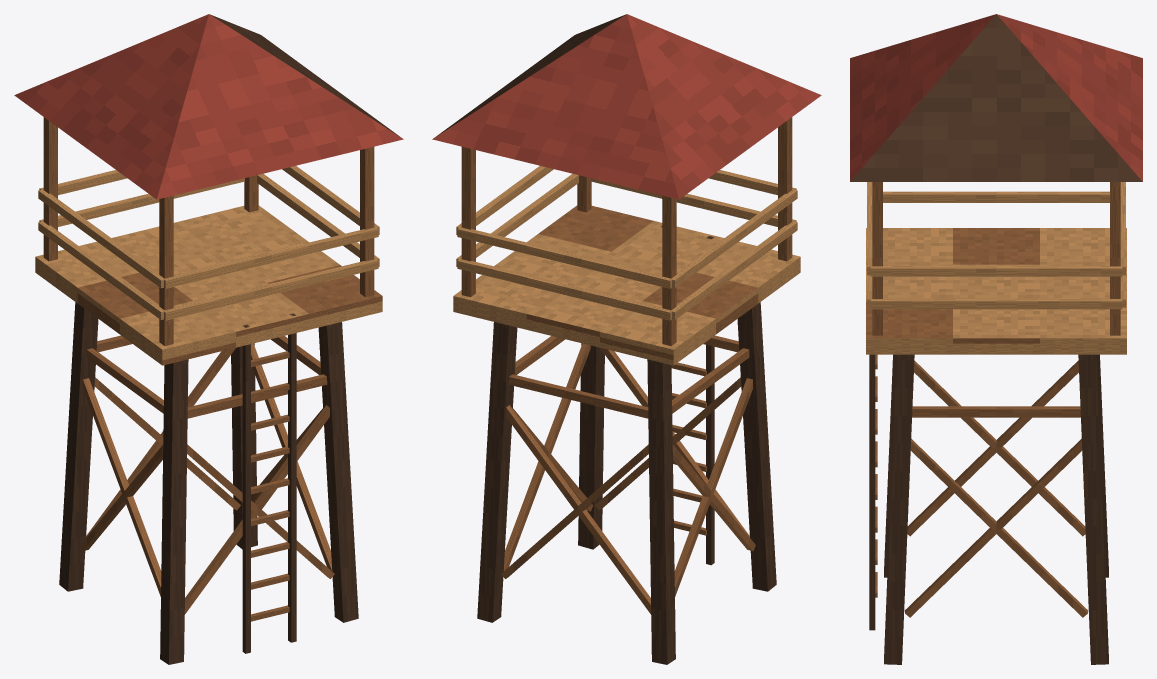
Rendered from watchtower.glb.
3 views of the same model, side by side, from view 1: azimuth 30°, elevation 25°; view 2: azimuth 150°, elevation 25°; view 3: azimuth 270°, elevation 25° (orthographic). The views are drawn at different scales.
Parts seen in each view (by area): view 1: watchtower; view 2: watchtower; view 3: watchtower.
Boxes of the visible parts, x1,y1,x2,y2 form: watchtower: [14, 14, 403, 664]; watchtower: [432, 14, 821, 664]; watchtower: [850, 14, 1142, 664].
Bounding box in the file's own units: 3.25 × 7.41 × 3.25.
Materials: 1 (1 with a texture image).
